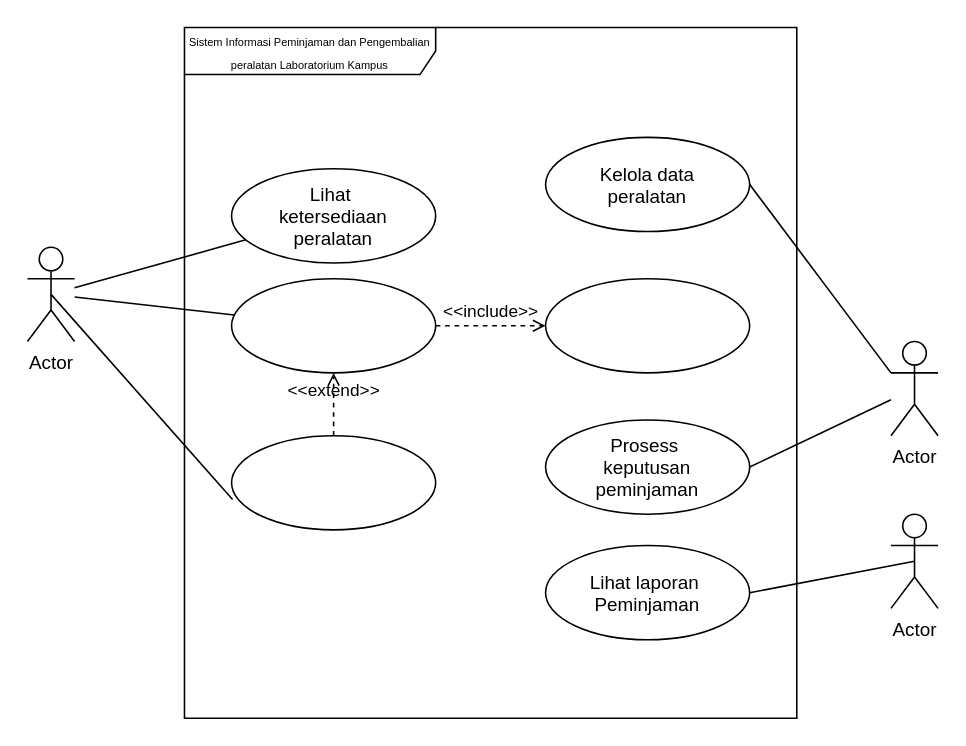
Some shapes in this 966 by 746 pixel diagram are drawn without their labels. The centre of each missing label's shape, as x and y in pixels:
"ajukan pinjaman" belongs at [333,325].
"cetak bukti pengajuan" belongs at [333,482].
"Periksa ketersediaan" belongs at [647,325].
